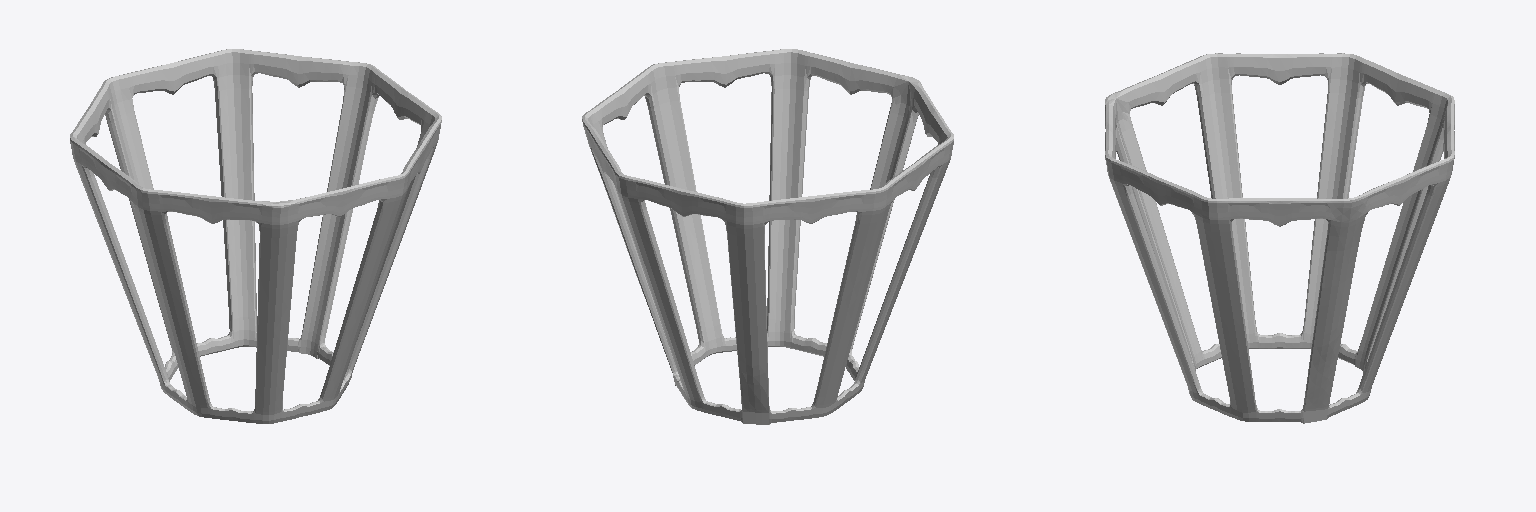
Rendered from grade.obj.
3 renders of one model, left to right at view 1: azimuth 30°, elevation 25°; view 2: azimuth 150°, elevation 25°; view 3: azimuth 270°, elevation 25°, orthographic.
Parts seen in each view (by area): view 1: Plane; view 2: Plane; view 3: Plane.
Part boxes in pixels (bbox=[...]): Plane: bbox=[70, 49, 441, 423]; Plane: bbox=[582, 49, 953, 424]; Plane: bbox=[1105, 53, 1454, 423].
Size of the model in its own units: 2.19 by 1.8 by 2.19.